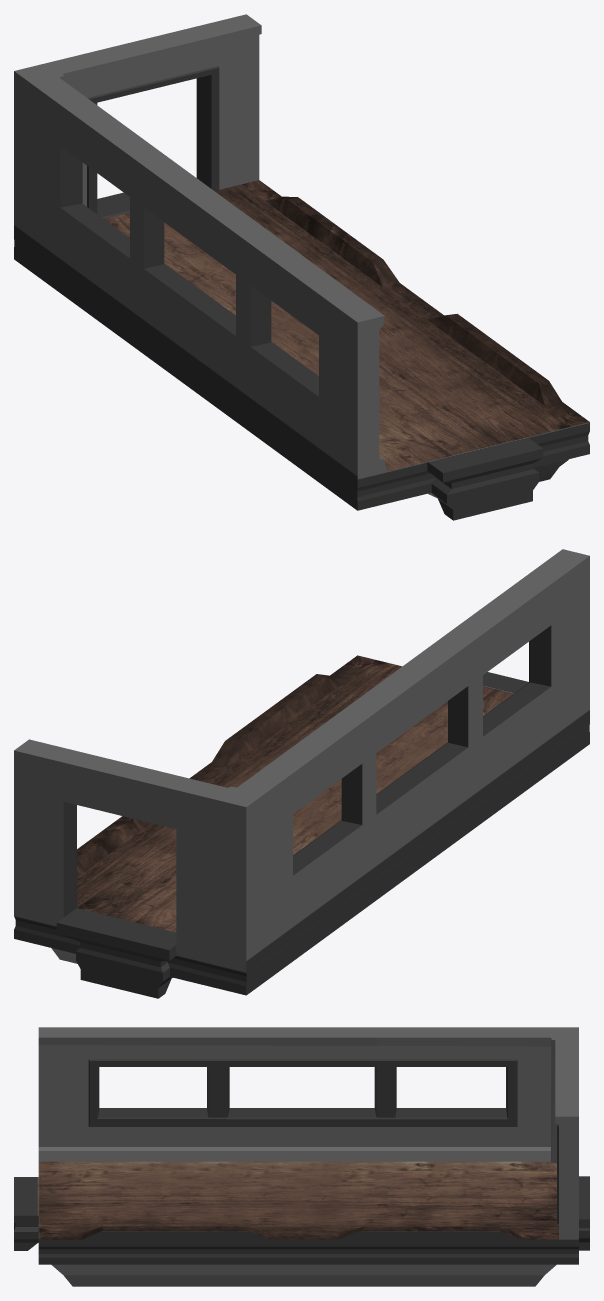
Rendered from TrainBody.fbx.
3 renders of one model, top to bottom at view 1: azimuth 30°, elevation 25°; view 2: azimuth 150°, elevation 25°; view 3: azimuth 270°, elevation 25°, orthographic. The views are drawn at different scales.
Parts seen in each view (by area): view 1: TrainBody; view 2: TrainBody; view 3: TrainBody.
Boxes of the visible parts, x1,y1,x2,y2 form: TrainBody: (14,14,589,520); TrainBody: (14,549,589,998); TrainBody: (14,1027,589,1286).
Bounding box in the file's own units: 6.24 × 5.77 × 17.01.
